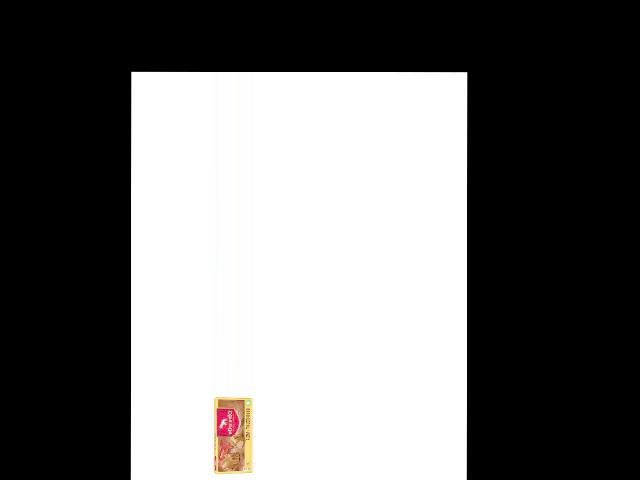chocolate: (212, 397, 259, 475)
